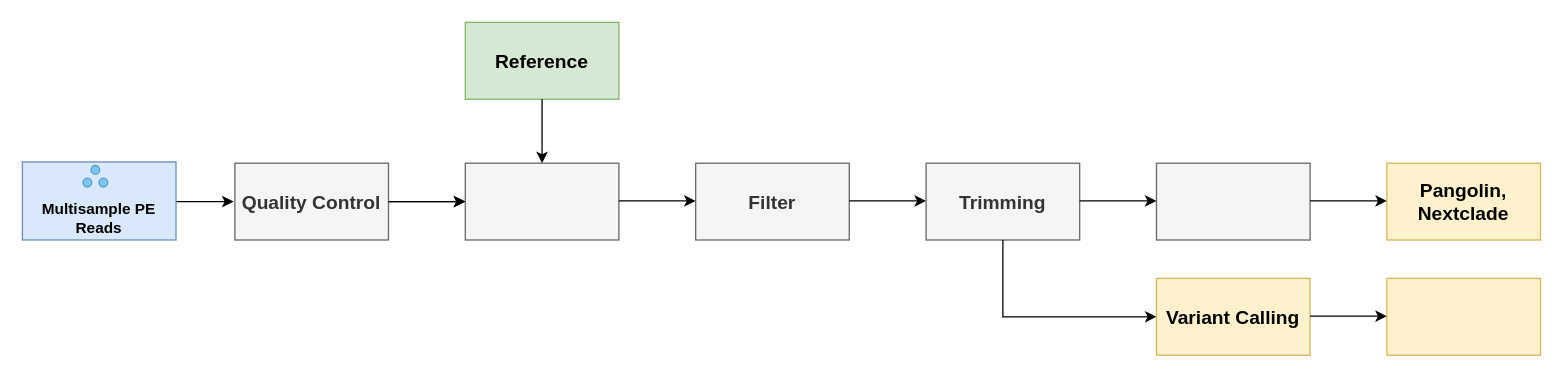
Image size: 1563x378. Some labels were removed from this diagram. Here are the shapes that lost their labels. From the top down, the centre of each, then its label:
At point (541, 201): "Mapping".
At point (1232, 201): "Consensus Construction".
At point (1463, 316): "Variant Annotation".
